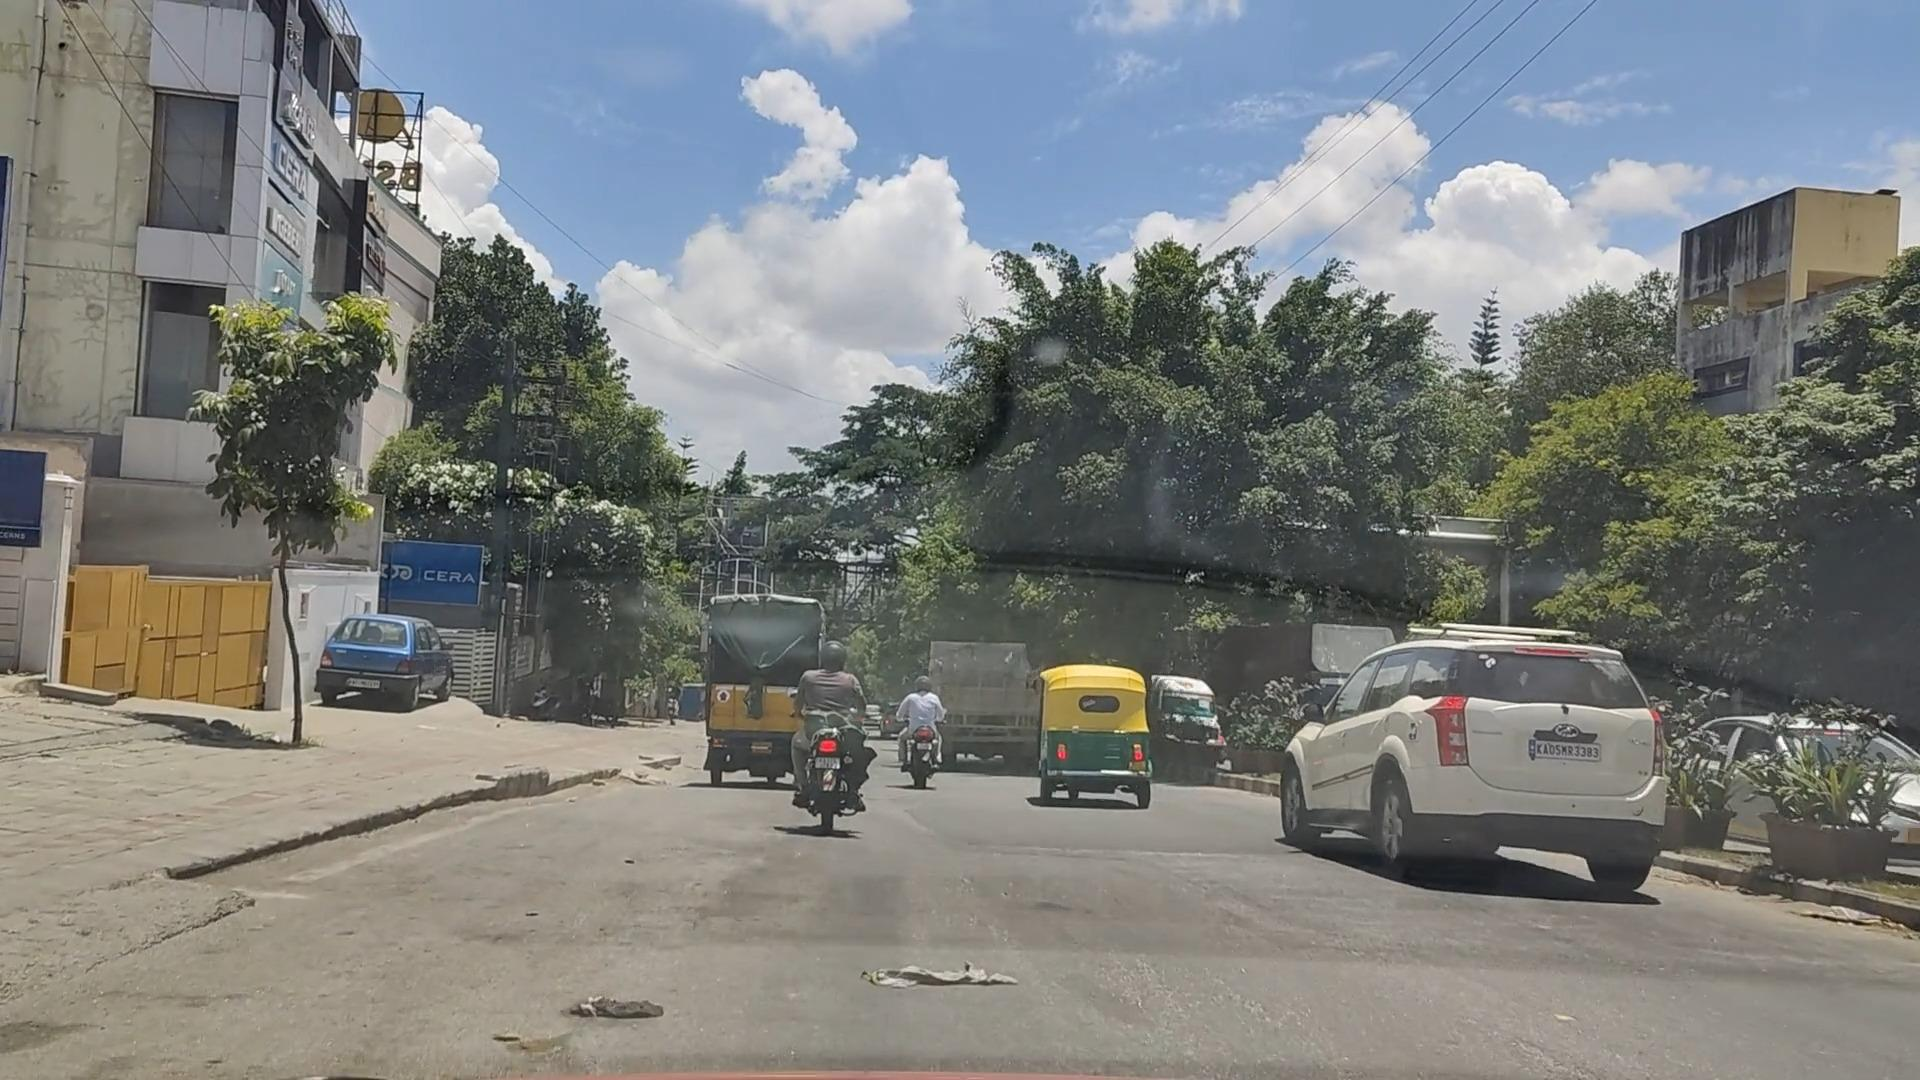HMV: (870, 603, 1047, 804), (683, 578, 840, 799)
